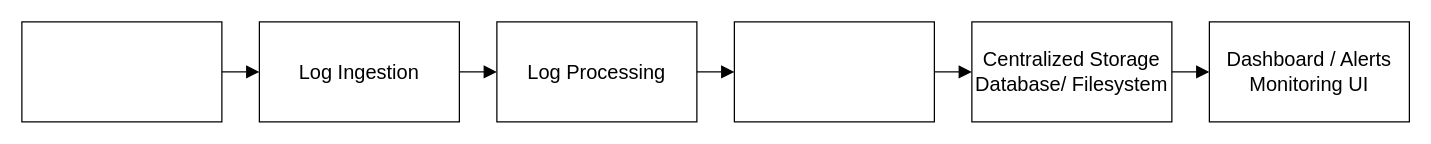
The diagram is 1431 pixels wide and 144 high, and some of its shapes have lost their labels. Each missing label, with the centre of its shape:
Anomaly Detection: point 833,71
Log Generation Servers / Applications: point 121,71
